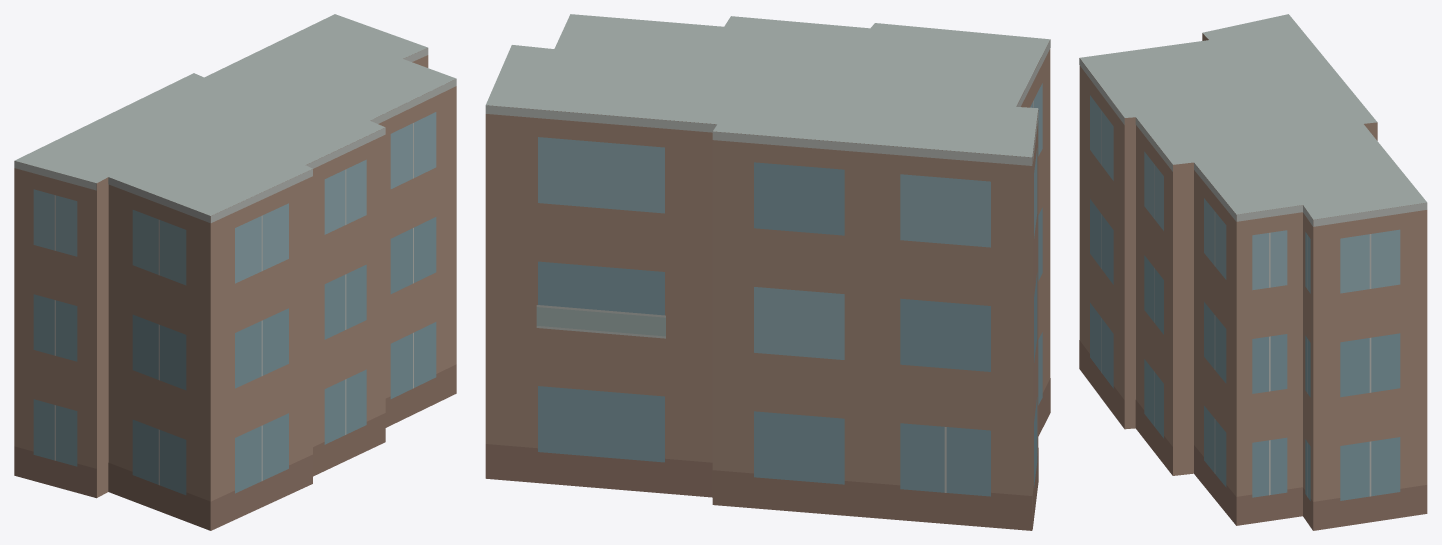
The model's file is survey-upis-33006449.glb.
3 views of the same model, side by side, from view 1: azimuth 30°, elevation 25°; view 2: azimuth 150°, elevation 25°; view 3: azimuth 270°, elevation 25° (orthographic). The views are drawn at different scales.
Visible parts, largest first — view 1: survey-upis-33006449.tmp; view 2: survey-upis-33006449.tmp; view 3: survey-upis-33006449.tmp.
Part boxes in pixels (left/top/right/bottom): survey-upis-33006449.tmp: left=14, top=14, right=456, bottom=530; survey-upis-33006449.tmp: left=485, top=14, right=1050, bottom=530; survey-upis-33006449.tmp: left=1079, top=14, right=1427, bottom=530.
Bounding box in the file's own units: 14.89 × 10.5 × 10.65.
